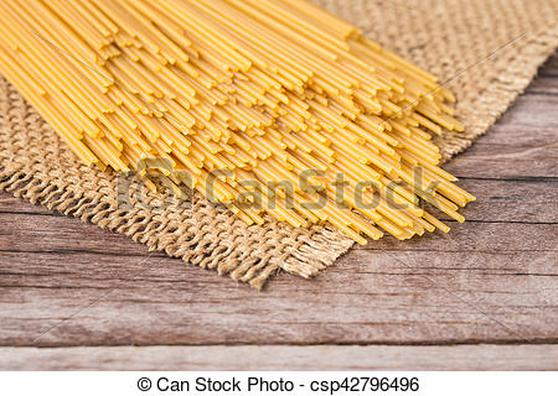spaghetti: (3, 1, 469, 242)
